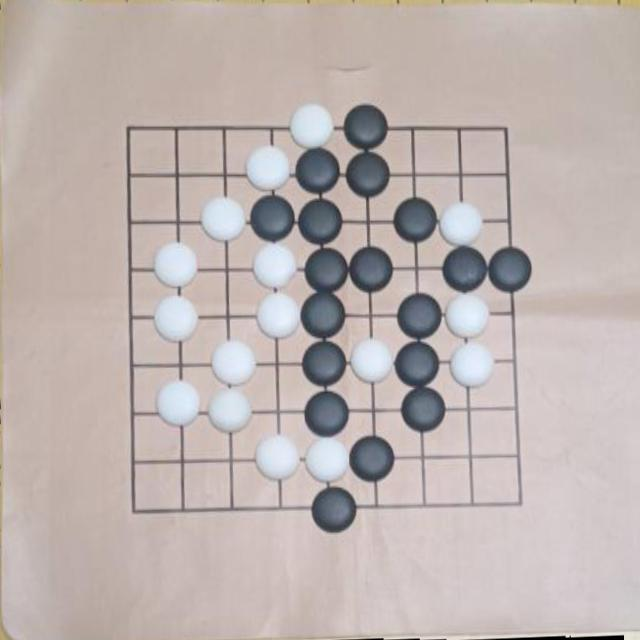blackstone: (442, 245, 488, 292), (296, 147, 342, 194), (300, 291, 346, 337), (304, 391, 350, 437), (250, 195, 296, 241), (397, 293, 442, 340), (298, 198, 343, 245), (394, 342, 440, 387), (349, 246, 394, 292), (350, 436, 395, 482), (344, 103, 389, 149), (401, 387, 446, 432), (304, 248, 350, 292), (346, 151, 390, 197), (488, 246, 532, 292), (302, 342, 347, 386), (394, 198, 438, 243), (312, 487, 356, 532)
whitestone: (211, 340, 257, 386), (252, 242, 298, 288), (255, 434, 300, 481), (154, 295, 198, 343), (256, 293, 301, 339), (445, 292, 490, 338), (305, 437, 349, 484), (201, 196, 246, 241), (289, 103, 334, 148), (450, 342, 494, 388), (154, 242, 198, 288), (208, 388, 252, 433), (350, 338, 394, 383), (246, 146, 290, 191), (439, 202, 483, 246), (157, 381, 200, 426)
